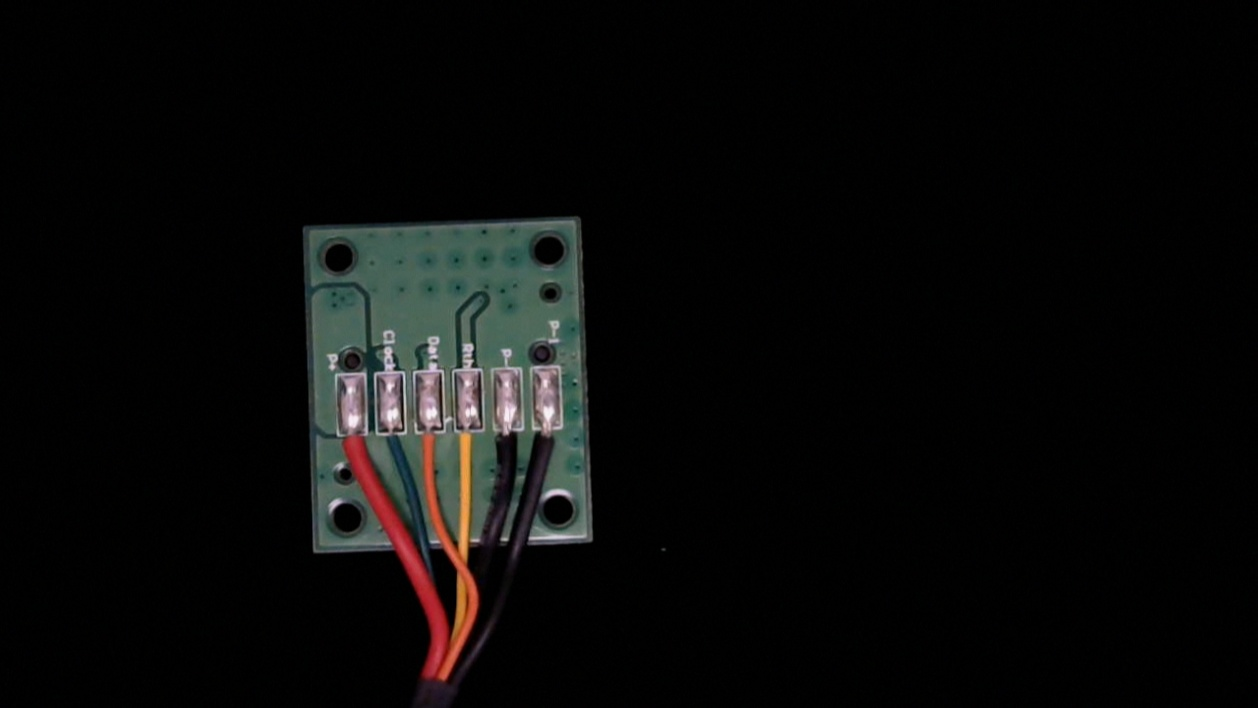Black: (495, 412, 525, 482)
Black1: (534, 414, 562, 472)
Green: (378, 415, 412, 484)
Orange: (417, 414, 450, 485)
Red: (338, 418, 373, 487)
Yellow: (457, 412, 485, 482)
